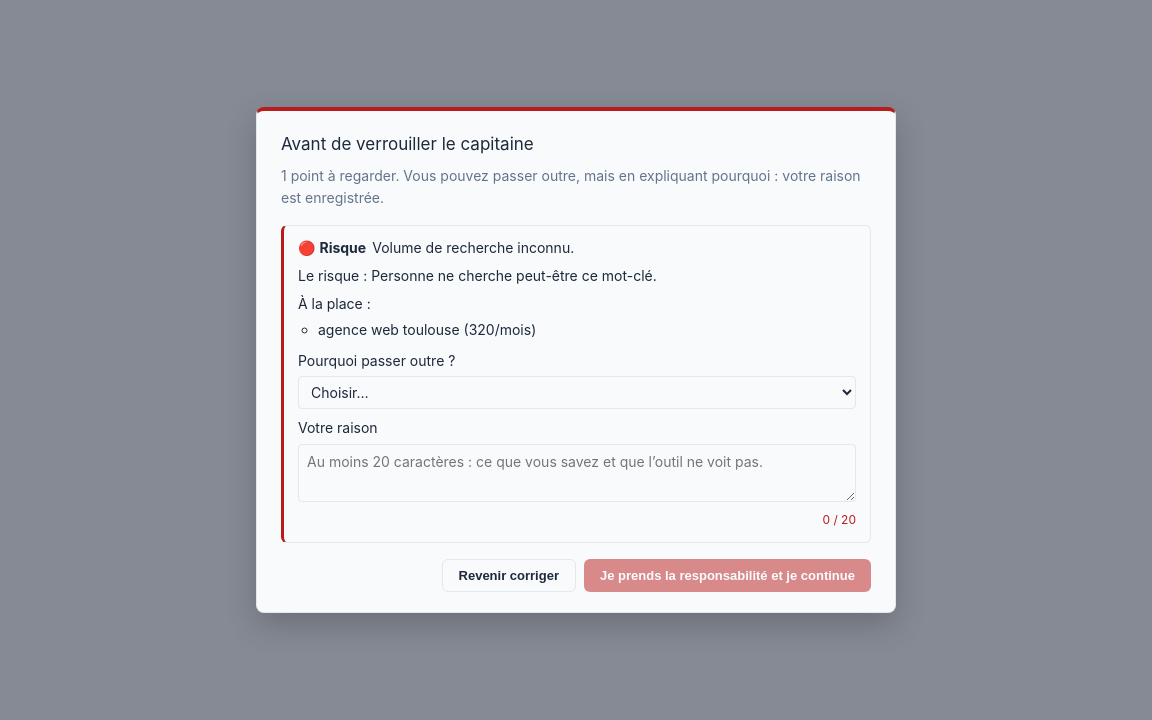
Test case: GateAlarm › affiche le motif quand le serveur refuse une dérogation
Select "Autre" in the dropdown with test id "gate-category": (577, 393) 298,376 -> 856,409
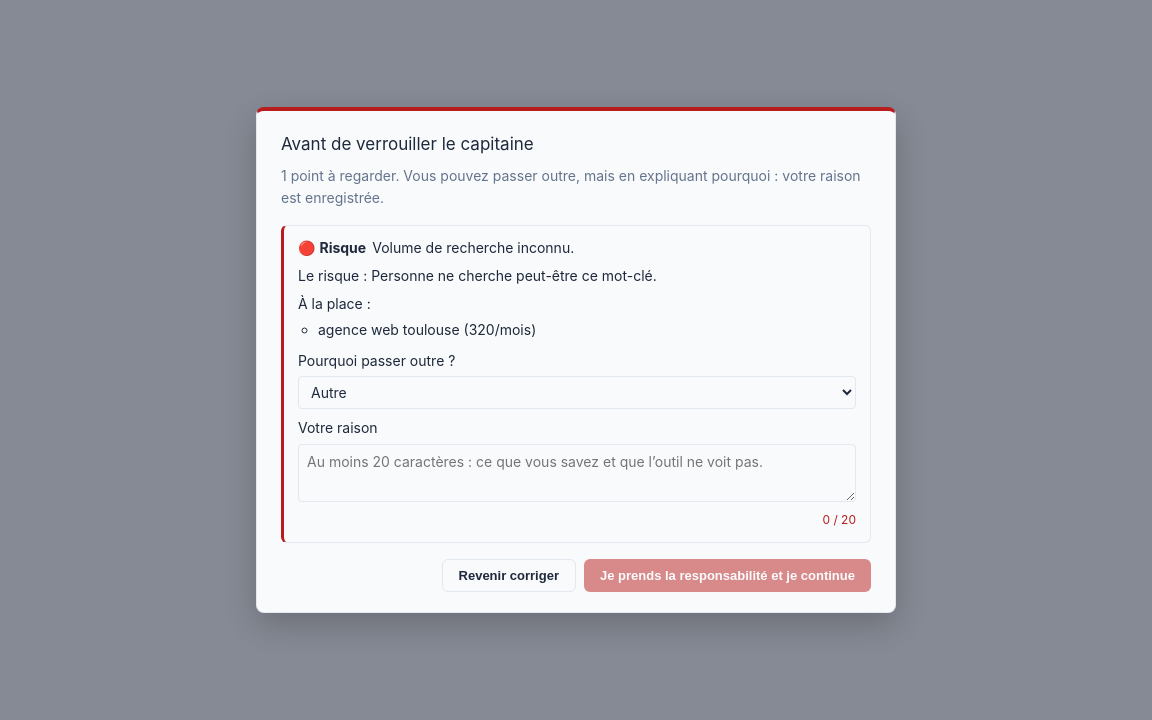
Replace the text in the text box with test id "gate-reason" with "Une raison suffisamment détaillée": (577, 473) 298,444 -> 856,502
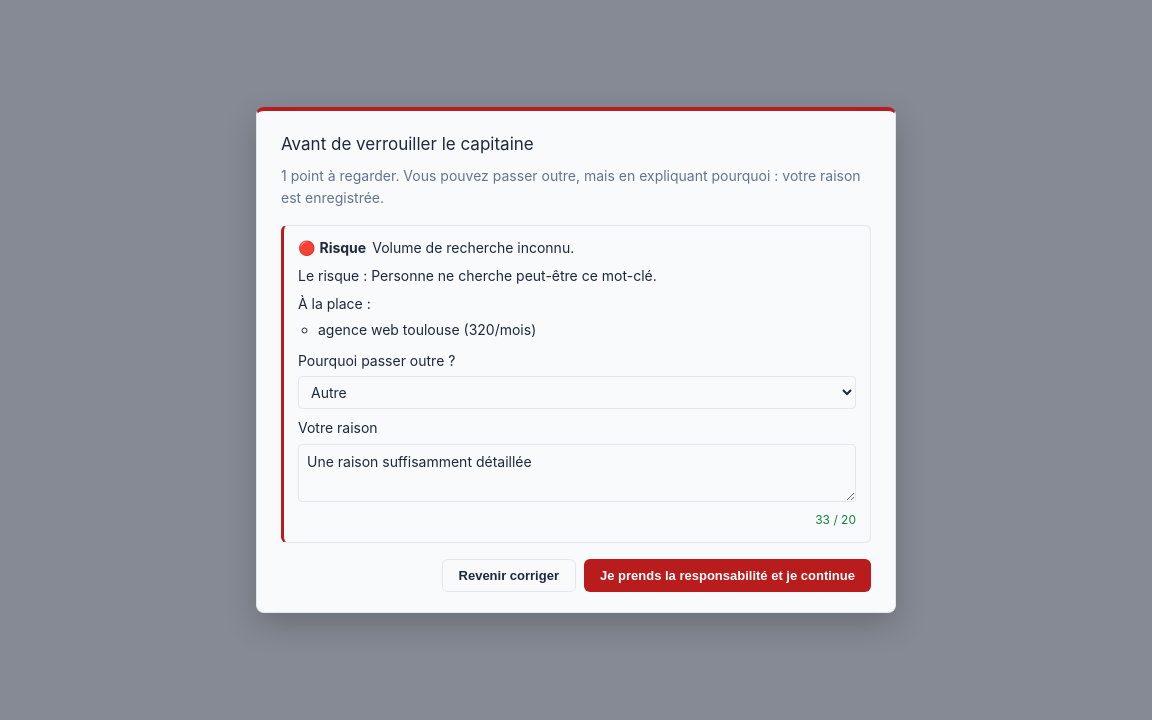
Click the button with test id "gate-accept": (728, 575) 584,559 -> 871,592
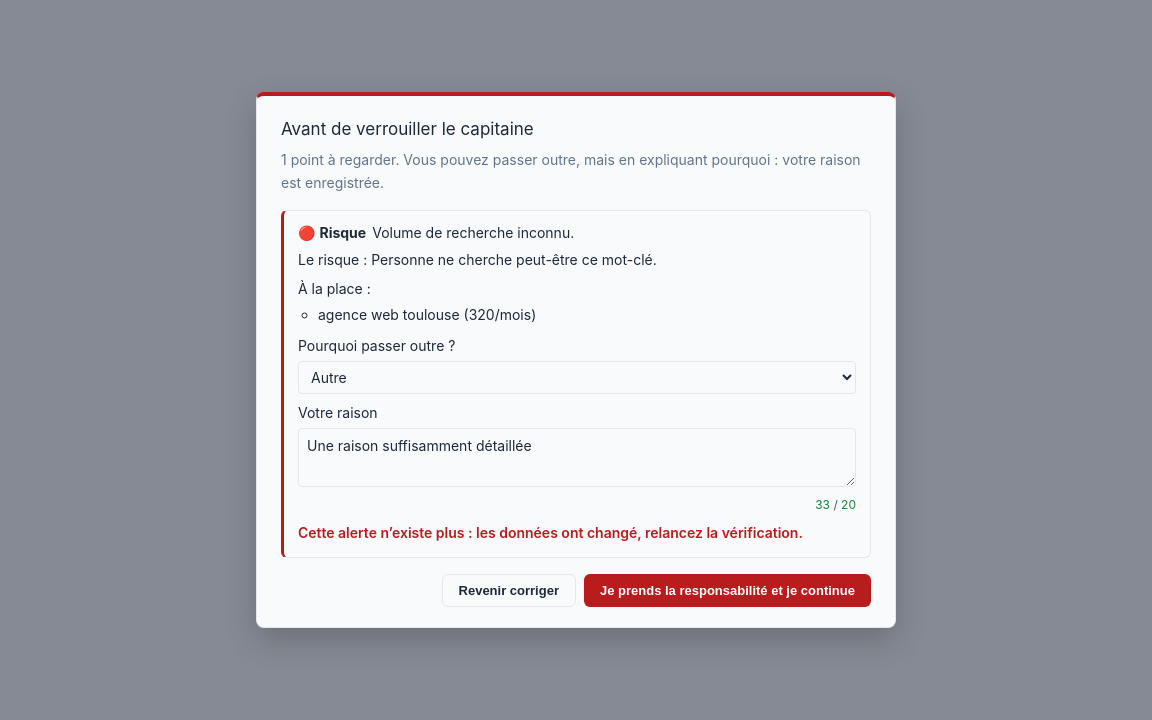
Expected: the message with test id "gate-refused" shows "les données ont changé", 298,524 -> 803,541
